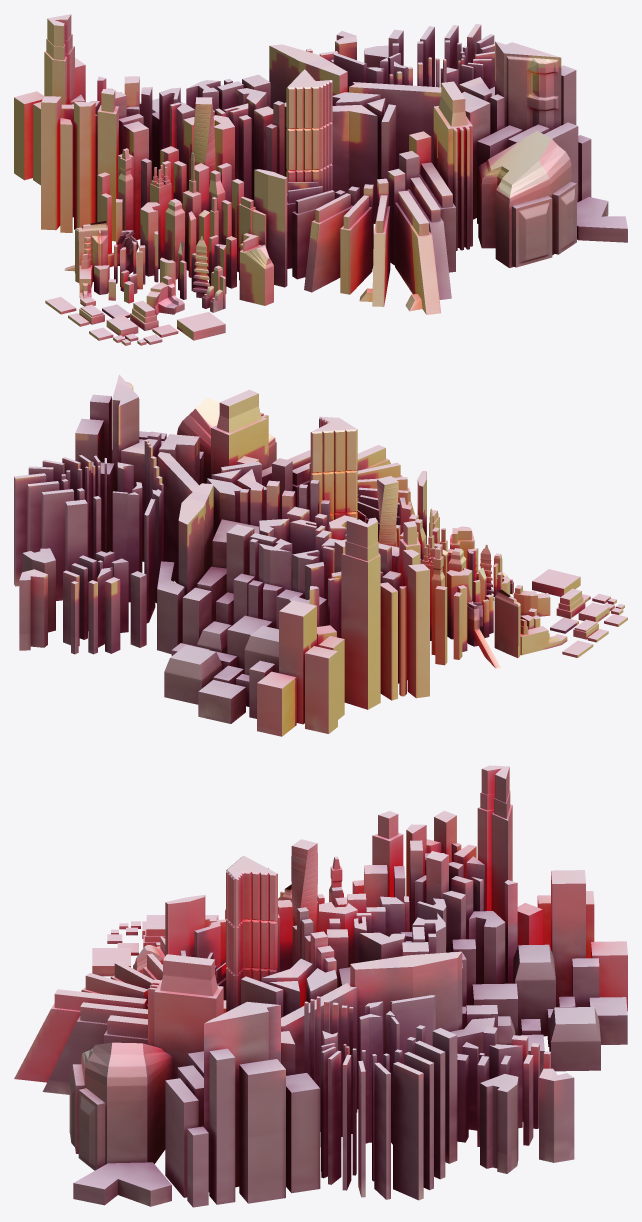
Rendered from abstract_city.glb.
The picture shows the model from 3 angles, top to bottom: view 1: azimuth 30°, elevation 25°; view 2: azimuth 150°, elevation 25°; view 3: azimuth 270°, elevation 25°; orthographic projection. The views are drawn at different scales.
Parts seen in each view (by area): view 1: city; view 2: city; view 3: city.
Part boxes in pixels (x1=…): city: x1=14, y1=14, x2=627, y2=345; city: x1=14, y1=374, x2=627, y2=736; city: x1=14, y1=765, x2=627, y2=1207.
Size of what is drawn, in the model's own units: 1.4 by 0.475 by 1.25.
Materials: 1 (1 with a texture image).
